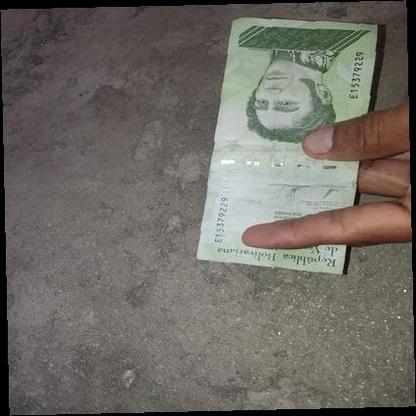fifty-front-vef: (195, 16, 378, 274)
